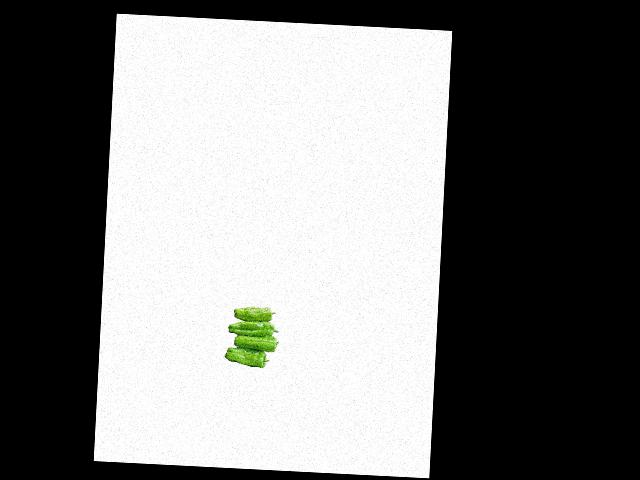bell_pepper: (220, 346, 272, 368)
